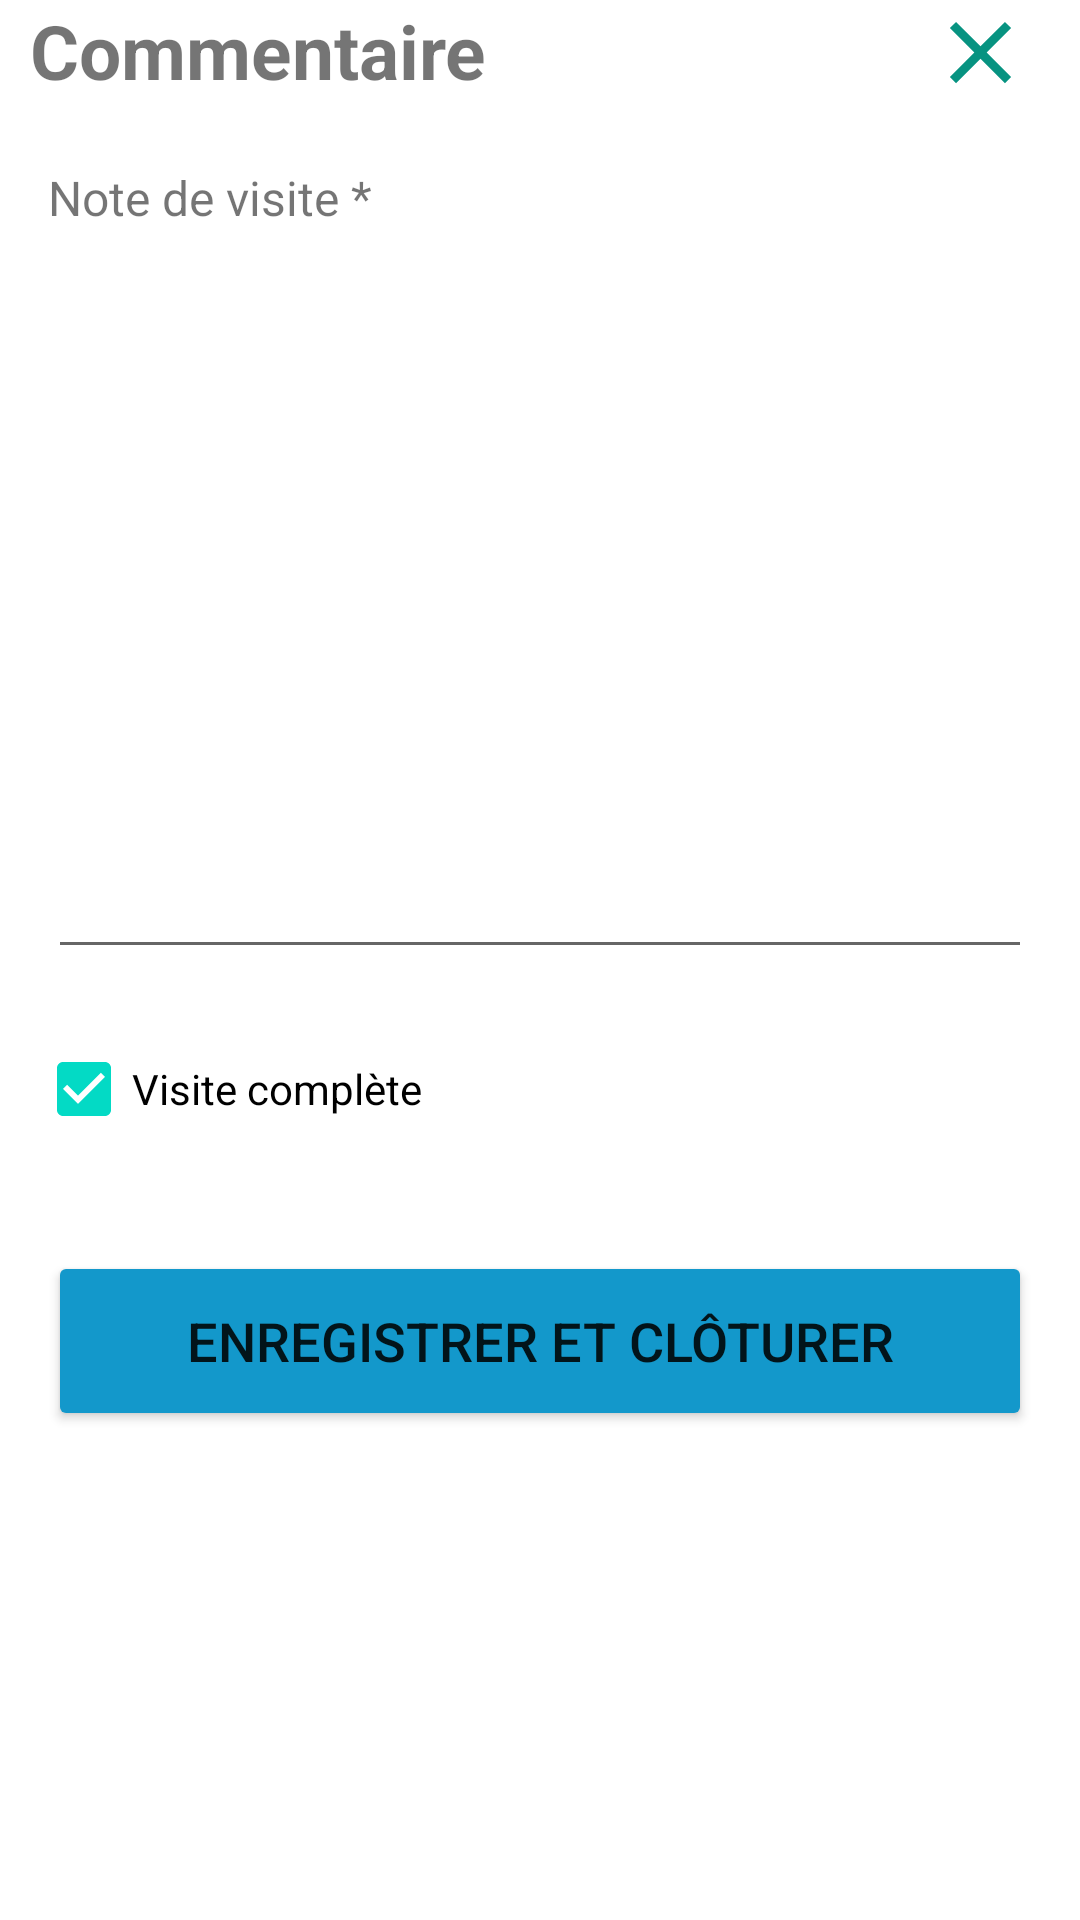

Named icons in this screenshot (1080×1920) and their bounding boxes, (x1, y1, x2, y2):
close: (950, 22, 1011, 83)
